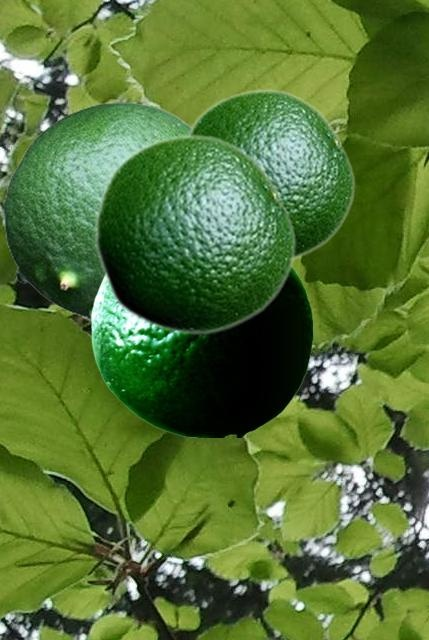calamansi: (93, 133, 296, 335), (3, 101, 190, 320), (91, 268, 312, 436), (185, 88, 355, 262)
